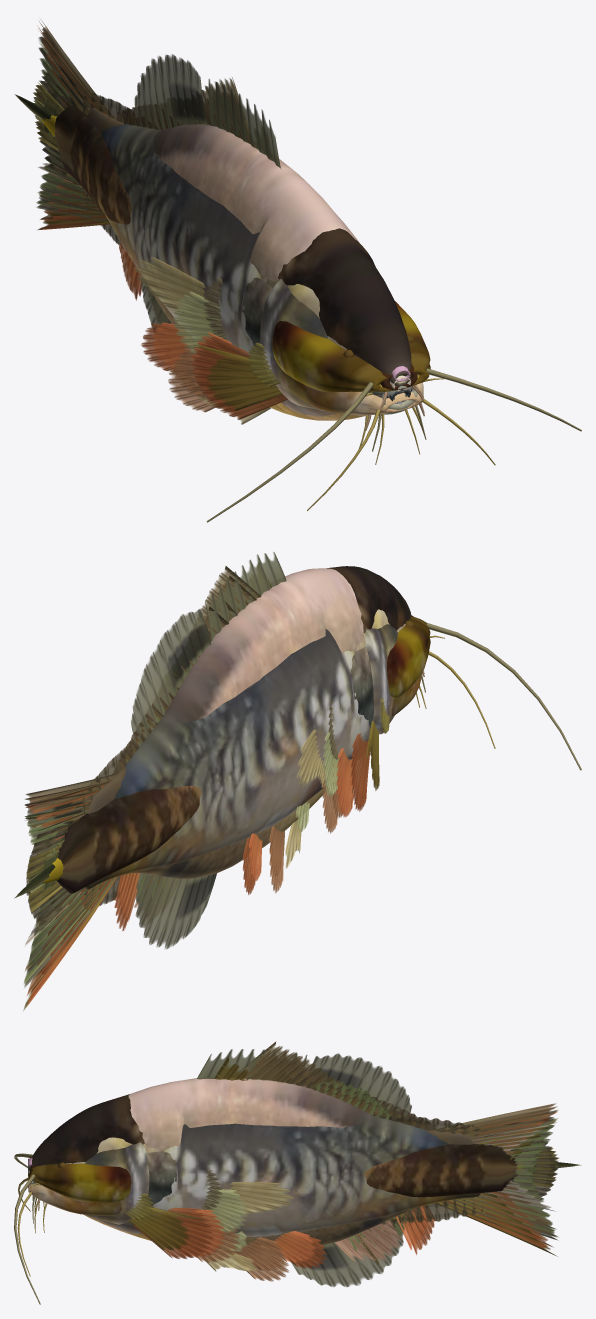
The model's file is lake_fish.glb.
3 renders of one model, top to bottom at view 1: azimuth 30°, elevation 25°; view 2: azimuth 150°, elevation 25°; view 3: azimuth 270°, elevation 25°, orthographic. The views are drawn at different scales.
Parts seen in each view (by area): view 1: fish_bluegill_mesh, fish_mirror_carp_mesh, fish_prussian_carp_mesh, fish_catfish_mesh, fish_snakehead_mesh, fish_korean_bullhead_mesh, fish_bass_mesh, fish_carp_mesh, fish_crucian_carp_mesh, fish_eel_mesh; view 2: fish_mirror_carp_mesh, fish_bluegill_mesh, fish_snakehead_mesh, fish_prussian_carp_mesh, fish_catfish_mesh, fish_bass_mesh, fish_carp_mesh, fish_crucian_carp_mesh, fish_korean_bullhead_mesh, fish_eel_mesh; view 3: fish_mirror_carp_mesh, fish_bluegill_mesh, fish_prussian_carp_mesh, fish_snakehead_mesh, fish_bass_mesh, fish_korean_bullhead_mesh, fish_crucian_carp_mesh, fish_catfish_mesh, fish_carp_mesh, fish_minnow_mesh.
Boxes of the visible parts, bbox=[...] form: fish_bluegill_mesh: bbox=[36, 36, 410, 424]; fish_mirror_carp_mesh: bbox=[38, 29, 424, 430]; fish_prussian_carp_mesh: bbox=[37, 19, 411, 416]; fish_catfish_mesh: bbox=[33, 82, 581, 522]; fish_snakehead_mesh: bbox=[34, 69, 417, 389]; fish_korean_bullhead_mesh: bbox=[37, 41, 495, 510]; fish_bass_mesh: bbox=[36, 38, 417, 414]; fish_carp_mesh: bbox=[37, 26, 424, 427]; fish_crucian_carp_mesh: bbox=[37, 21, 410, 411]; fish_eel_mesh: bbox=[14, 94, 408, 383]; fish_mirror_carp_mesh: bbox=[25, 606, 424, 1005]; fish_bluegill_mesh: bbox=[24, 552, 363, 987]; fish_snakehead_mesh: bbox=[26, 615, 413, 928]; fish_prussian_carp_mesh: bbox=[25, 566, 411, 971]; fish_catfish_mesh: bbox=[26, 616, 581, 912]; fish_bass_mesh: bbox=[24, 586, 374, 983]; fish_carp_mesh: bbox=[25, 601, 424, 996]; fish_crucian_carp_mesh: bbox=[24, 575, 405, 983]; fish_korean_bullhead_mesh: bbox=[23, 563, 495, 1010]; fish_eel_mesh: bbox=[14, 839, 64, 898]; fish_mirror_carp_mesh: bbox=[28, 1061, 556, 1268]; fish_bluegill_mesh: bbox=[84, 1049, 557, 1287]; fish_prussian_carp_mesh: bbox=[28, 1041, 556, 1281]; fish_snakehead_mesh: bbox=[28, 1114, 558, 1224]; fish_bass_mesh: bbox=[28, 1077, 558, 1251]; fish_korean_bullhead_mesh: bbox=[17, 1056, 557, 1276]; fish_crucian_carp_mesh: bbox=[28, 1052, 557, 1270]; fish_catfish_mesh: bbox=[14, 1148, 558, 1304]; fish_carp_mesh: bbox=[28, 1065, 558, 1263]; fish_minnow_mesh: bbox=[28, 1086, 557, 1261].
Size of what is drawn, in the model's own units: 0.5788 by 0.5088 by 1.07.
2 materials, 2 textured.
